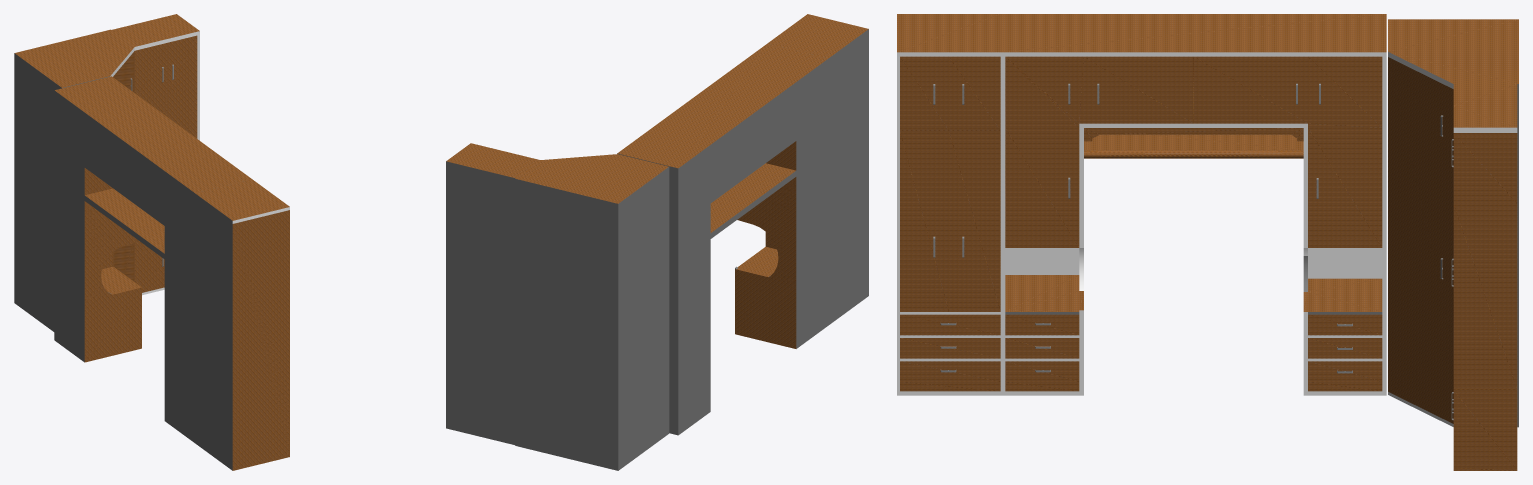
File: Vao de cama_Mais_Canto.gltf
3 renders of one model, left to right at view 1: azimuth 30°, elevation 25°; view 2: azimuth 150°, elevation 25°; view 3: azimuth 270°, elevation 25°, orthographic. The views are drawn at different scales.
Parts seen in each view (by area): view 1: root; view 2: root; view 3: root.
Boxes of the visible parts, x1,y1,x2,y2 form: root: (14,14,289,470); root: (446,14,868,470); root: (897,14,1518,470).
Bounding box in the file's own units: 200 × 250 × 411.
Materials: 4 (1 with a texture image).
